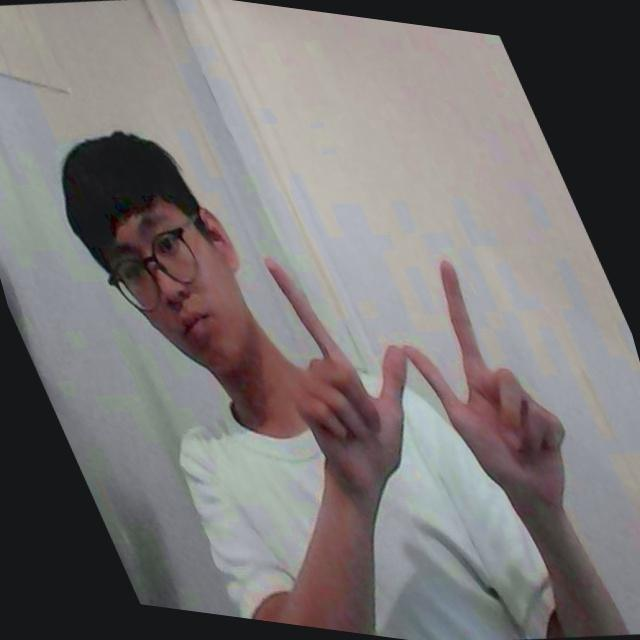W: (257, 245, 576, 497)
